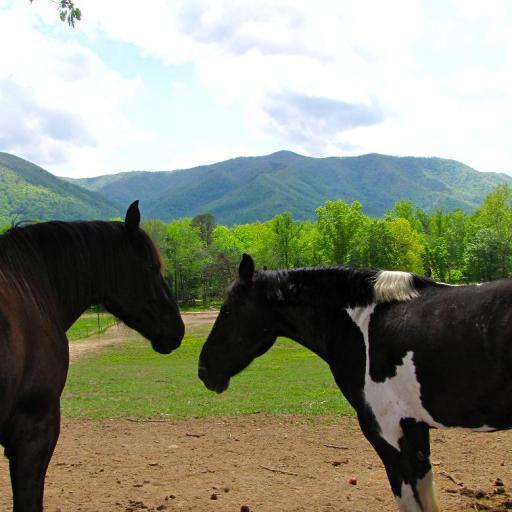horse: (195, 250, 512, 512), (0, 200, 188, 512)
